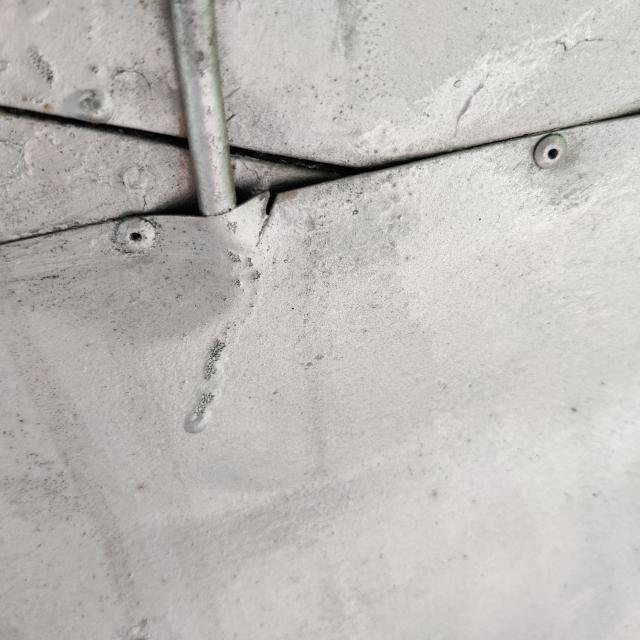Crack: (257, 190, 280, 245)
